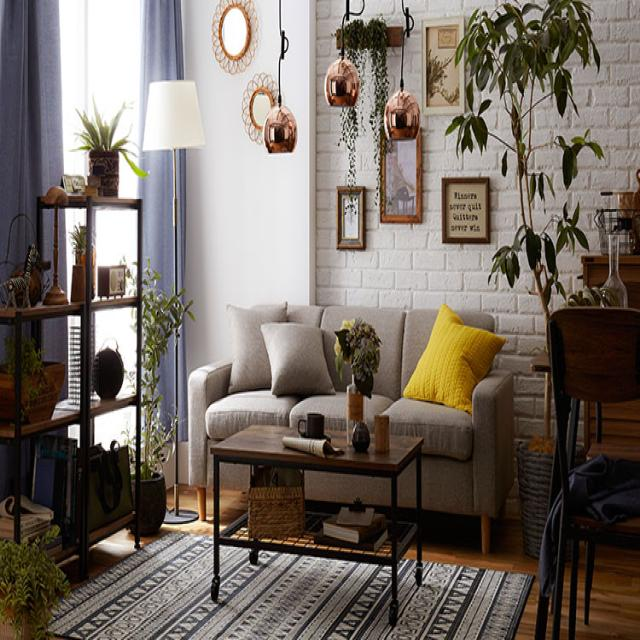vintage chair: (544, 304, 640, 639)
vintage desk: (210, 421, 427, 625)
vintage shelf: (1, 183, 149, 579)
vintage sofa: (187, 295, 513, 556)
